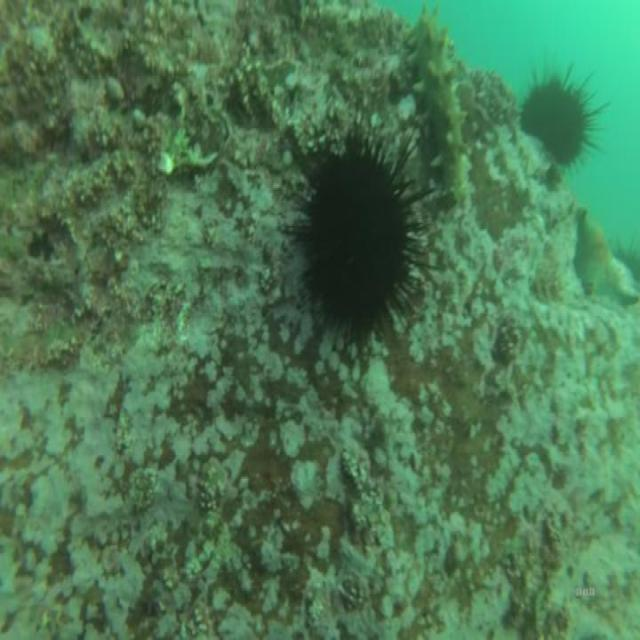echinus: (286, 106, 434, 359), (519, 57, 613, 171)
holothurian: (401, 0, 478, 213)
starfish: (571, 204, 640, 313)
